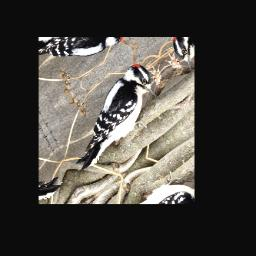Woodpecker: (54, 58, 169, 175)
